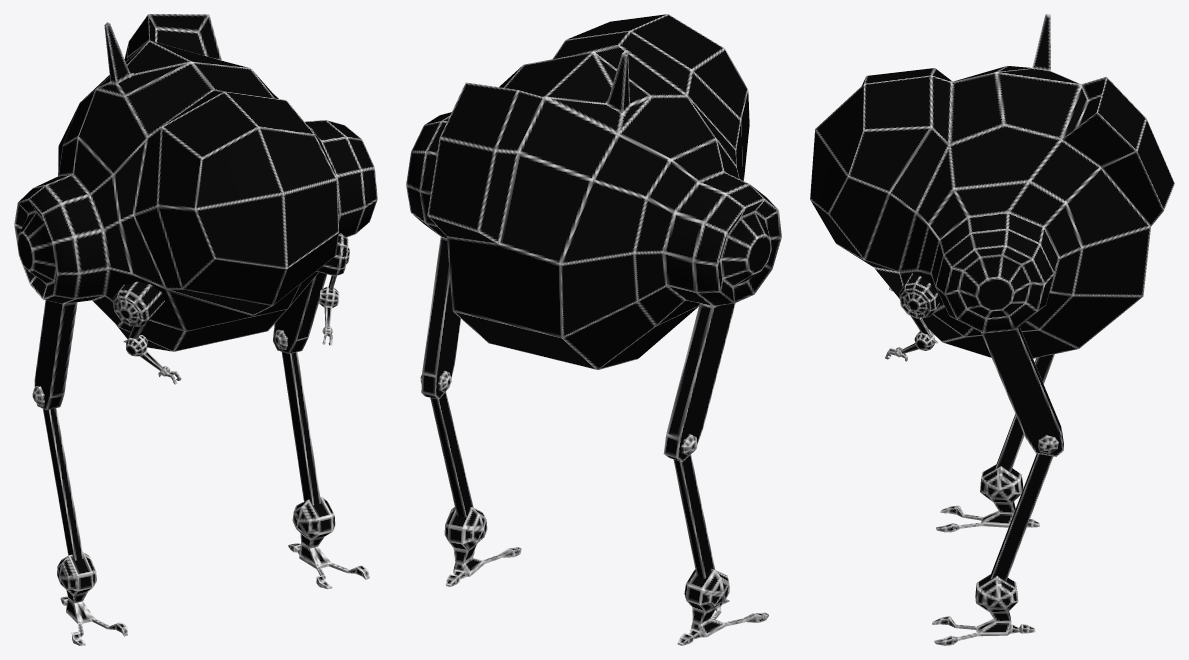
File: frogMechModelWithTexture.fbx
3 renders of one model, left to right at view 1: azimuth 30°, elevation 25°; view 2: azimuth 150°, elevation 25°; view 3: azimuth 270°, elevation 25°, orthographic. The views are drawn at different scales.
Parts seen in each view (by area): view 1: frogMech; view 2: frogMech; view 3: frogMech.
Boxes of the visible parts, x1=… form: frogMech: x1=14, y1=14, x2=377, y2=645; frogMech: x1=406, y1=14, x2=781, y2=645; frogMech: x1=810, y1=14, x2=1174, y2=645.
Size of the model in its own units: 5.92 by 9.56 by 5.89.
1 material, 1 textured.
